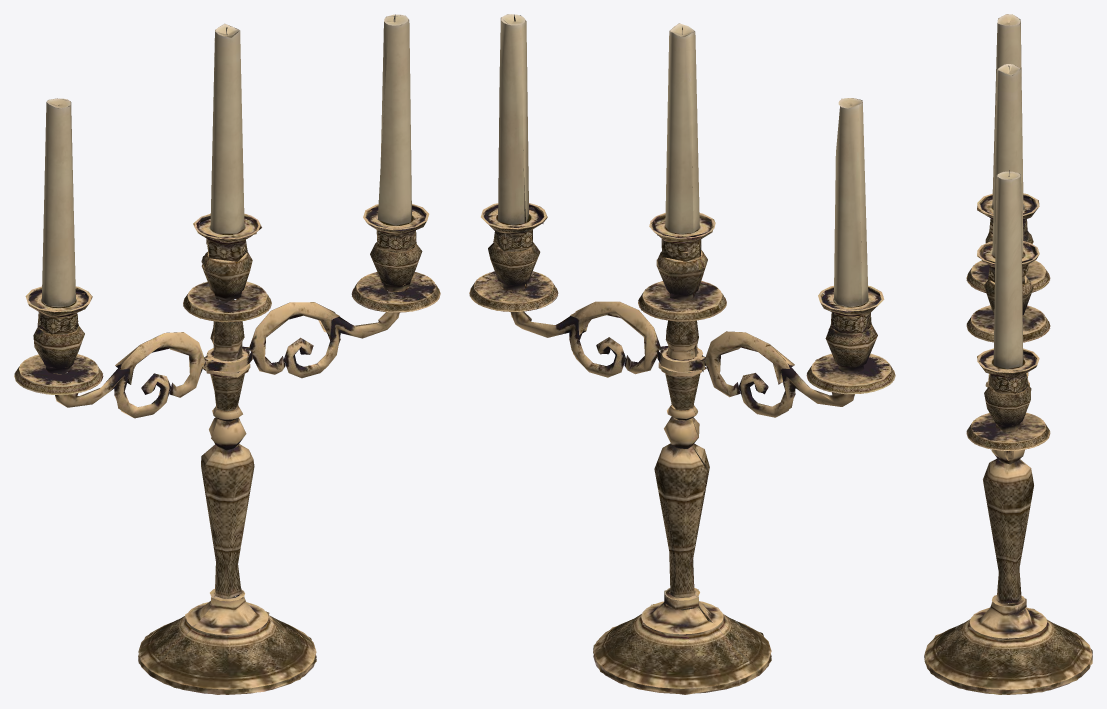
The model's file is candleholder_double.glb.
The picture shows the model from 3 angles, left to right: view 1: azimuth 30°, elevation 25°; view 2: azimuth 150°, elevation 25°; view 3: azimuth 270°, elevation 25°; orthographic projection. The views are drawn at different scales.
Visible parts, largest first — view 1: brass_candleholder_02; view 2: brass_candleholder_02; view 3: brass_candleholder_02.
Boxes of the visible parts, bbox=[...] form: brass_candleholder_02: bbox=[14, 14, 440, 694]; brass_candleholder_02: bbox=[469, 14, 895, 694]; brass_candleholder_02: bbox=[924, 14, 1092, 694].
Bounding box in the file's own units: 0.2611 × 0.3795 × 0.0976.
2 materials, 2 textured.
